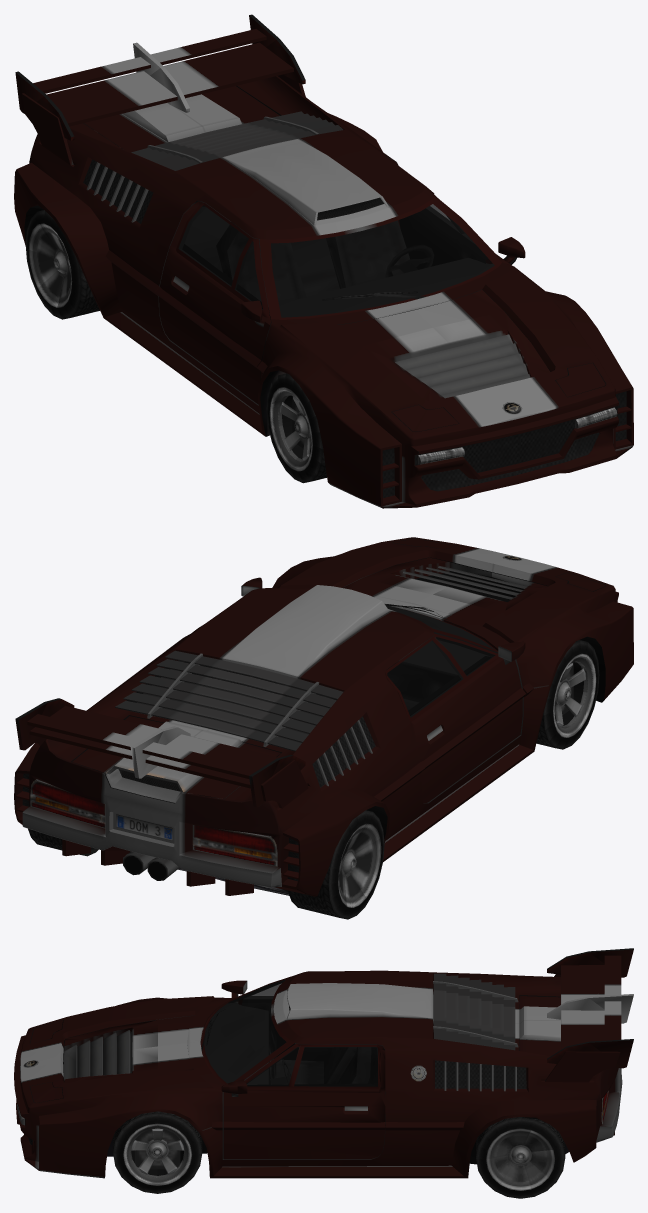
File: car2.glb
3 renders of one model, top to bottom at view 1: azimuth 30°, elevation 25°; view 2: azimuth 150°, elevation 25°; view 3: azimuth 270°, elevation 25°, orthographic. The views are drawn at different scales.
Parts seen in each view (by area): view 1: Car4_hd_mesh_0, Car4_hd_mesh_4, Car4_hd_mesh_2, Car4_hd_mesh_3, Car4_hd_mesh_6, Car4_hd_mesh_5, Car4_hd_mesh_1; view 2: Car4_hd_mesh_0, Car4_hd_mesh_4, Car4_hd_mesh_2, Car4_hd_mesh_3, Car4_hd_mesh_6, Car4_hd_mesh_5; view 3: Car4_hd_mesh_0, Car4_hd_mesh_1, Car4_hd_mesh_4, Car4_hd_mesh_3, Car4_hd_mesh_7, Car4_hd_mesh_5.001, Car4_hd_mesh_2.
Part boxes in pixels (x1=…): Car4_hd_mesh_0: x1=14, y1=74, x2=633, y2=508; Car4_hd_mesh_4: x1=15, y1=14, x2=305, y2=152; Car4_hd_mesh_2: x1=155, y1=201, x2=271, y2=404; Car4_hd_mesh_3: x1=337, y1=290, x2=550, y2=400; Car4_hd_mesh_6: x1=25, y1=210, x2=99, y2=319; Car4_hd_mesh_5: x1=266, y1=373, x2=326, y2=483; Car4_hd_mesh_1: x1=389, y1=158, x2=525, y2=269; Car4_hd_mesh_0: x1=14, y1=537, x2=633, y2=896; Car4_hd_mesh_4: x1=15, y1=698, x2=305, y2=807; Car4_hd_mesh_2: x1=385, y1=633, x2=525, y2=802; Car4_hd_mesh_3: x1=342, y1=557, x2=547, y2=625; Car4_hd_mesh_6: x1=287, y1=810, x2=384, y2=919; Car4_hd_mesh_5: x1=536, y1=640, x2=599, y2=749; Car4_hd_mesh_0: x1=14, y1=970, x2=622, y2=1178; Car4_hd_mesh_1: x1=221, y1=1043, x2=385, y2=1159; Car4_hd_mesh_4: x1=519, y1=948, x2=633, y2=1068; Car4_hd_mesh_3: x1=63, y1=1015, x2=194, y2=1082; Car4_hd_mesh_7: x1=476, y1=1117, x2=565, y2=1198; Car4_hd_mesh_5.001: x1=113, y1=1111, x2=202, y2=1193; Car4_hd_mesh_2: x1=221, y1=980, x2=371, y2=1061.
Size of the model in its own units: 2.38 by 1.3 by 5.01.
26 materials, 23 textured.
